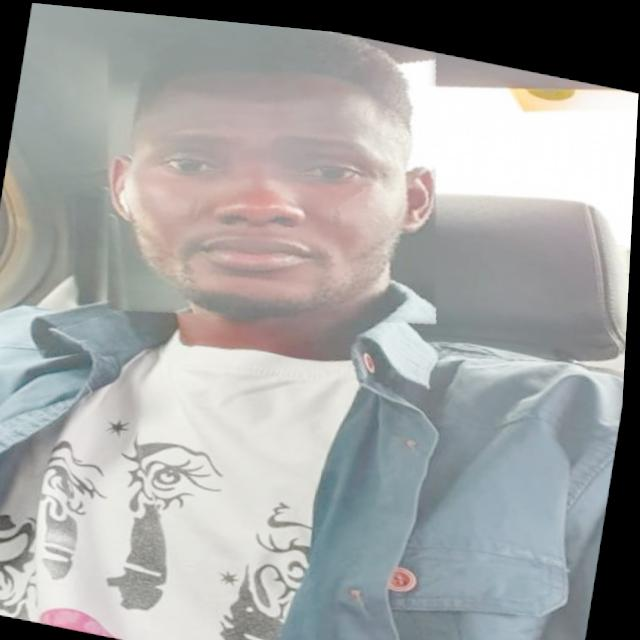sad: (76, 7, 468, 352)
